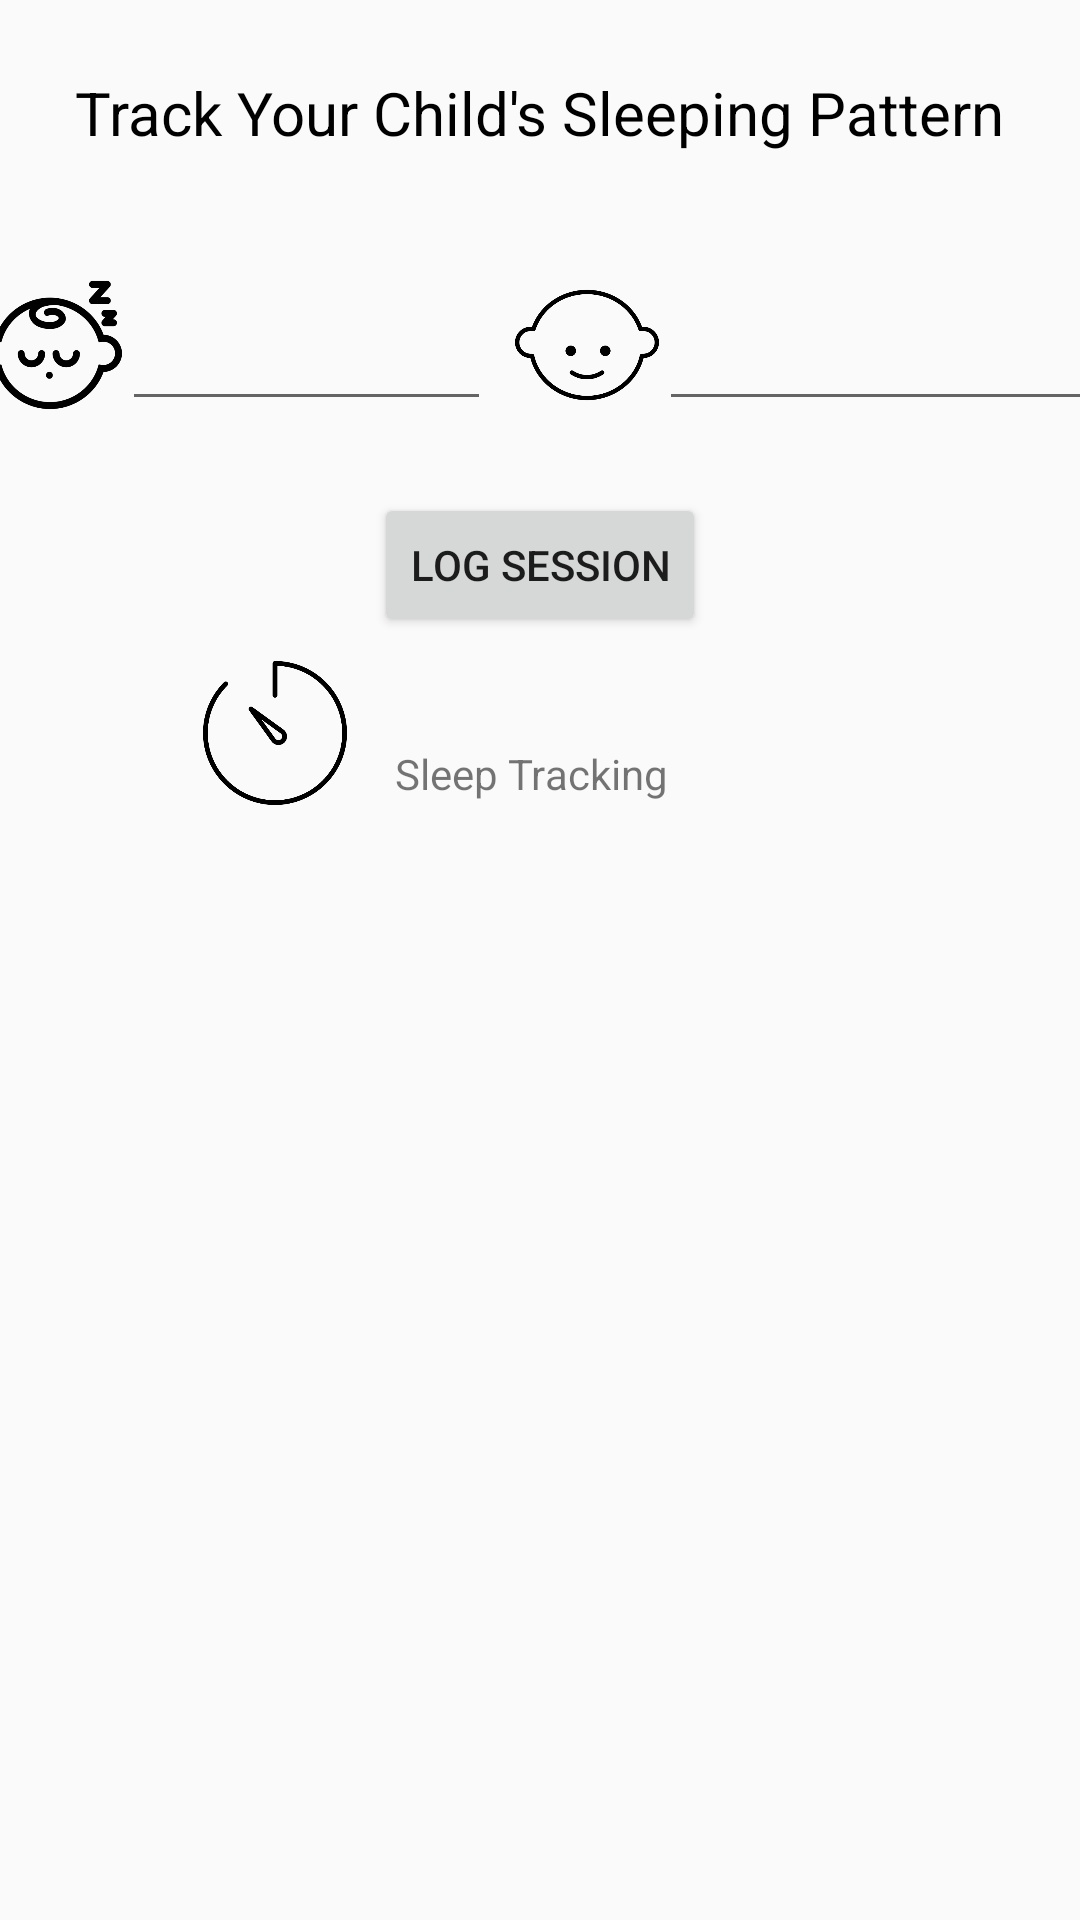

Named icons in this screenshot (1080*1920) and their centers, (x,y):
baby awake: (587,345)
stopwatch: (275,733)
